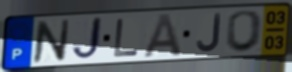A: (141, 12, 184, 60)
J: (69, 15, 105, 63), (195, 12, 224, 54)
L: (112, 17, 142, 59)
N: (31, 18, 72, 65)
O: (223, 9, 266, 54)
